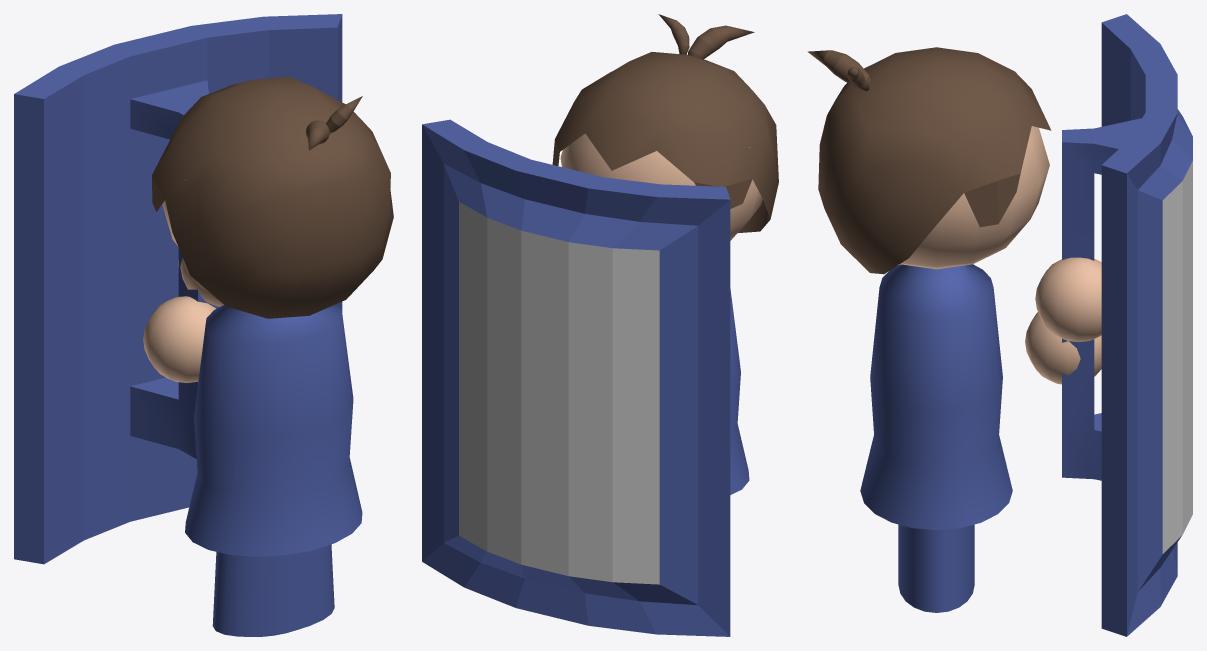
The model's file is BOI_Proto_Prop.fbx.
The picture shows the model from 3 angles, left to right: view 1: azimuth 30°, elevation 25°; view 2: azimuth 150°, elevation 25°; view 3: azimuth 270°, elevation 25°; orthographic projection. The views are drawn at different scales.
Visible parts, largest first — view 1: pCube5; view 2: pCube5; view 3: pCube5.
Boxes of the visible parts, x1,y1,x2,y2 form: pCube5: [14, 14, 393, 636]; pCube5: [422, 14, 778, 636]; pCube5: [807, 14, 1192, 636].
Bounding box in the file's own units: 2 × 3.17 × 2.04.
